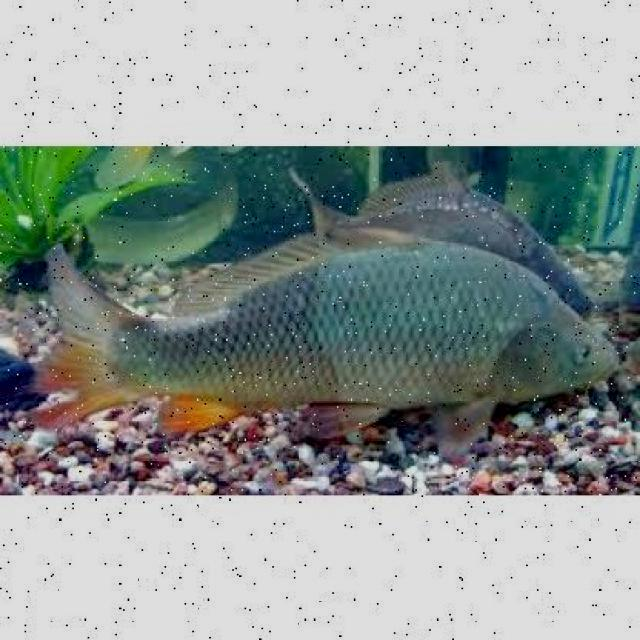ikan-mas: (51, 238, 616, 420)
